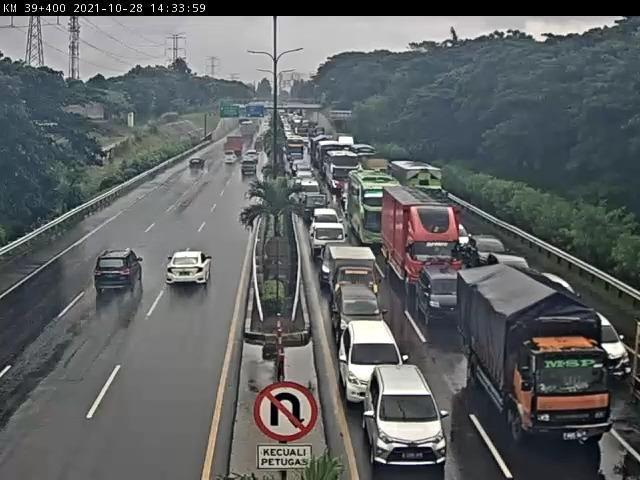bus: (349, 172, 402, 248), (323, 152, 363, 194)
car: (361, 368, 450, 468), (336, 323, 411, 405), (568, 306, 632, 381), (417, 263, 473, 329), (323, 247, 385, 305), (328, 287, 390, 344), (90, 246, 145, 297), (162, 250, 214, 289), (311, 223, 352, 265), (467, 236, 509, 271), (488, 254, 531, 282), (299, 195, 331, 225), (448, 222, 471, 253), (297, 179, 321, 200), (313, 209, 341, 227), (240, 164, 256, 183), (187, 159, 204, 175), (295, 168, 313, 183), (224, 153, 239, 169)
truck: (459, 271, 612, 448), (382, 186, 461, 296)
